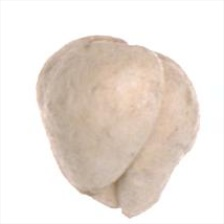L3: (77, 178, 142, 218)
L4: (35, 35, 199, 219)
